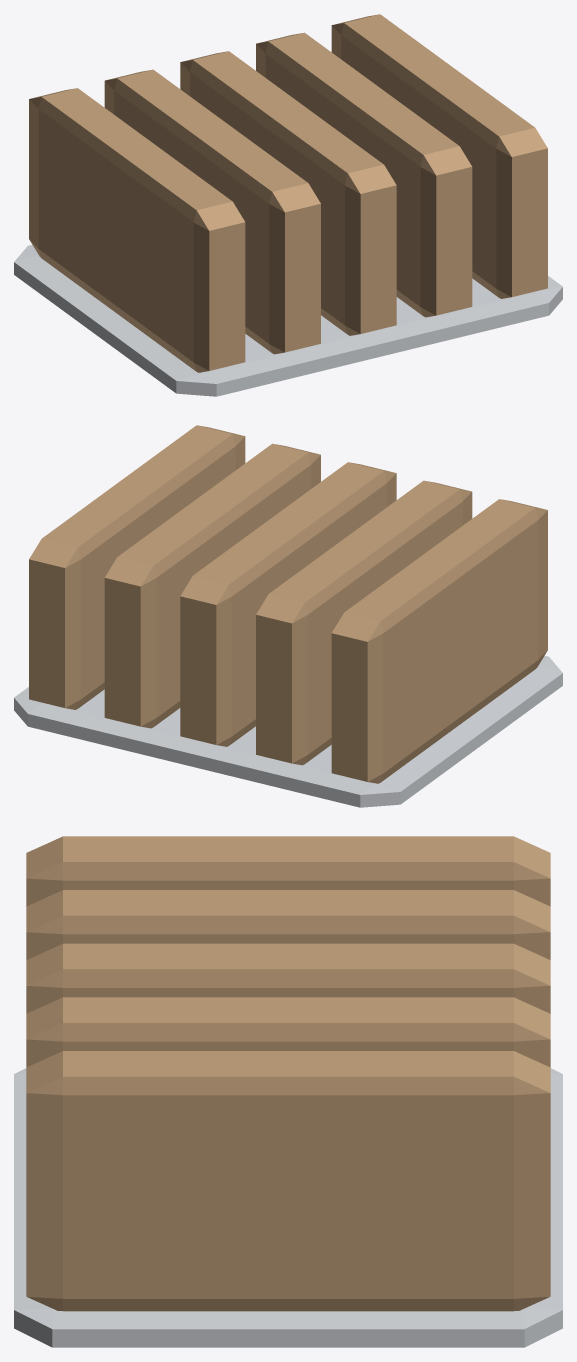
File: b01_classic_aframe_picnic_table.glb
3 renders of one model, top to bottom at view 1: azimuth 30°, elevation 25°; view 2: azimuth 150°, elevation 25°; view 3: azimuth 270°, elevation 25°, orthographic. The views are drawn at different scales.
Visible parts, largest first — view 1: b01_classic_aframe_picnic_table; view 2: b01_classic_aframe_picnic_table; view 3: b01_classic_aframe_picnic_table.
Part boxes in pixels (<box>): b01_classic_aframe_picnic_table: <box>14,14,562,396</box>; b01_classic_aframe_picnic_table: <box>14,425,562,807</box>; b01_classic_aframe_picnic_table: <box>14,836,562,1347</box>.
Size of the model in its own units: 1.85 by 0.804 by 1.56.
